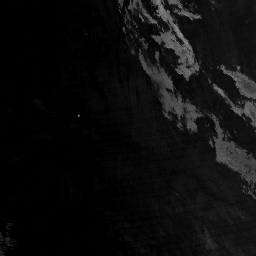Target: (75, 112, 81, 118)
